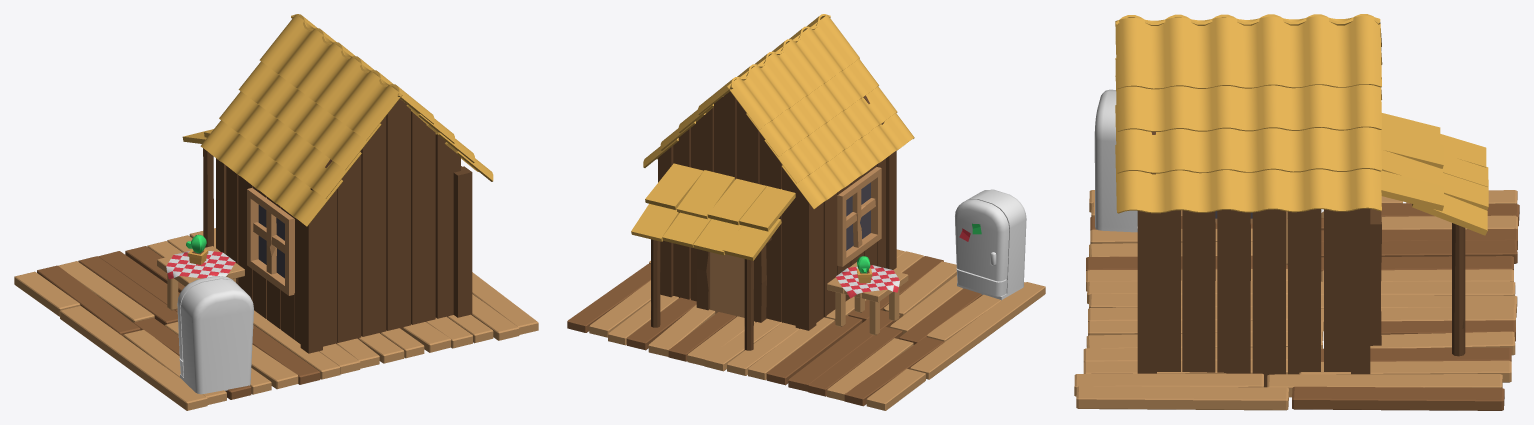
File: SM_Build_05.fbx
3 views of the same model, side by side, from view 1: azimuth 30°, elevation 25°; view 2: azimuth 150°, elevation 25°; view 3: azimuth 270°, elevation 25° (orthographic). The views are drawn at different scales.
Parts seen in each view (by area): view 1: Cylinder.008, Fridge.001, Cube.107, Flower_04; view 2: Cylinder.008, Fridge.001, Cube.107; view 3: Cylinder.008, Fridge.001.
Boxes of the visible parts, x1,y1,x2,y2 form: Cylinder.008: (14,14,538,410); Fridge.001: (177,276,253,394); Cube.107: (157,246,244,310); Flower_04: (186,234,208,264); Cylinder.008: (567,14,1045,410); Fridge.001: (955,189,1026,300); Cube.107: (827,262,908,335); Cylinder.008: (1074,14,1519,410); Fridge.001: (1094,89,1137,232).
Bounding box in the file's own units: 14.73 × 10.77 × 13.12.
